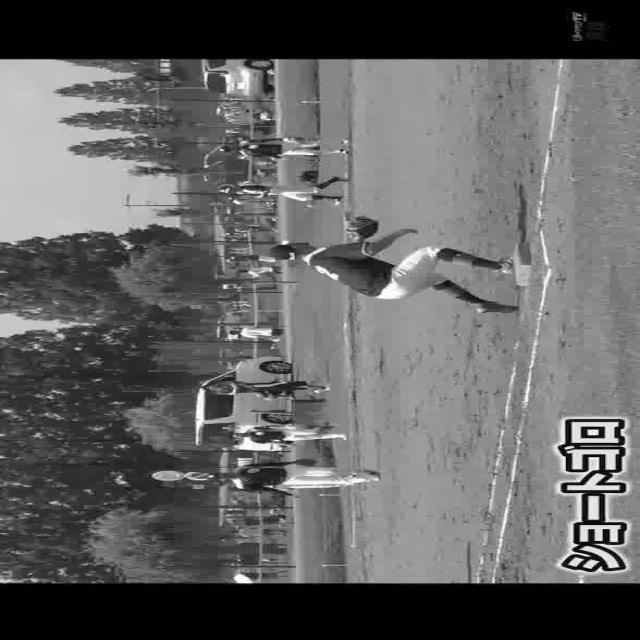base: (512, 239, 534, 287)
baseball_glove: (338, 210, 380, 244), (292, 456, 320, 466)
shoe: (469, 300, 523, 316), (491, 250, 516, 276), (359, 464, 380, 484)
